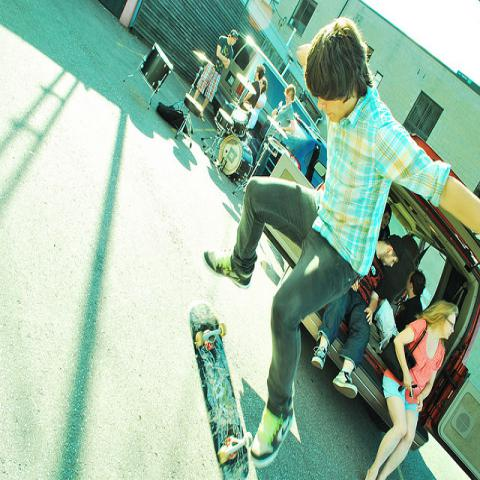car: (302, 128, 480, 452), (214, 41, 322, 134), (278, 113, 327, 191)
